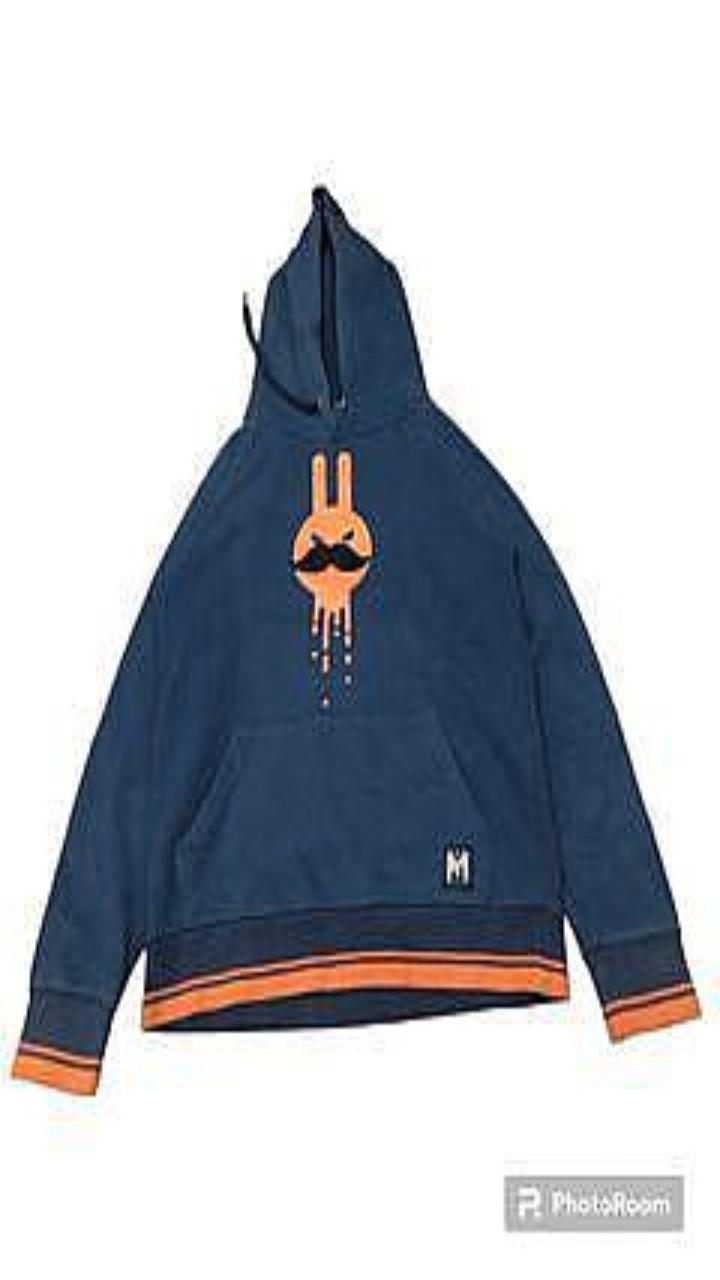Hoodie: (14, 189, 697, 1092)
